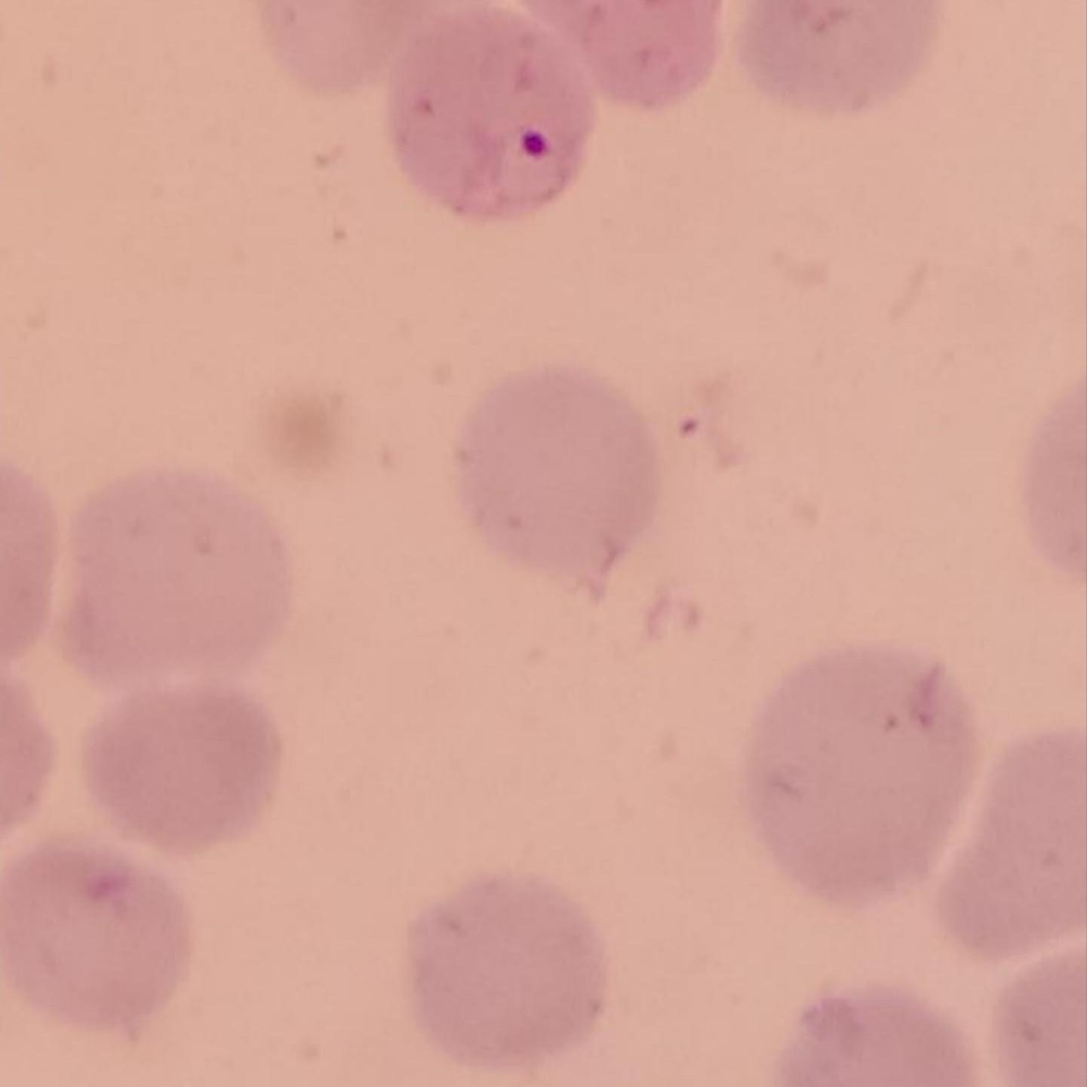Infected: (379, 0, 591, 217)
Uninfected: (741, 638, 985, 903), (49, 470, 293, 686), (449, 368, 657, 596), (405, 875, 604, 1063), (0, 836, 189, 1029), (935, 723, 1087, 956), (77, 681, 278, 854)
